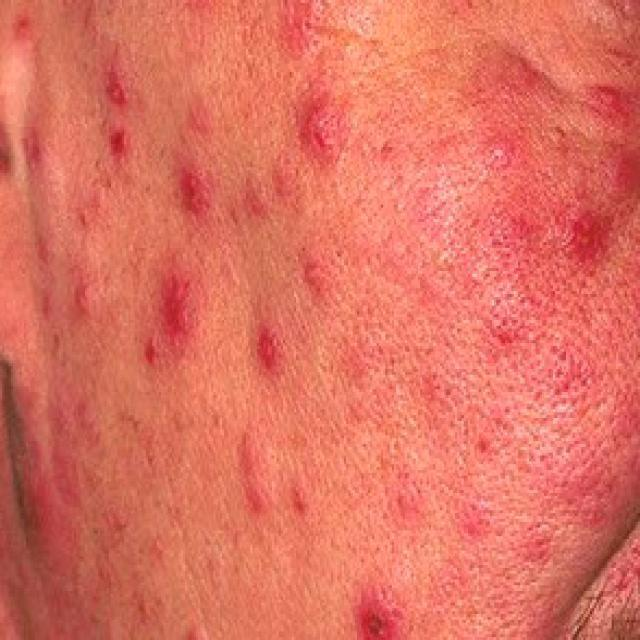Rosacea: (5, 6, 610, 640)
